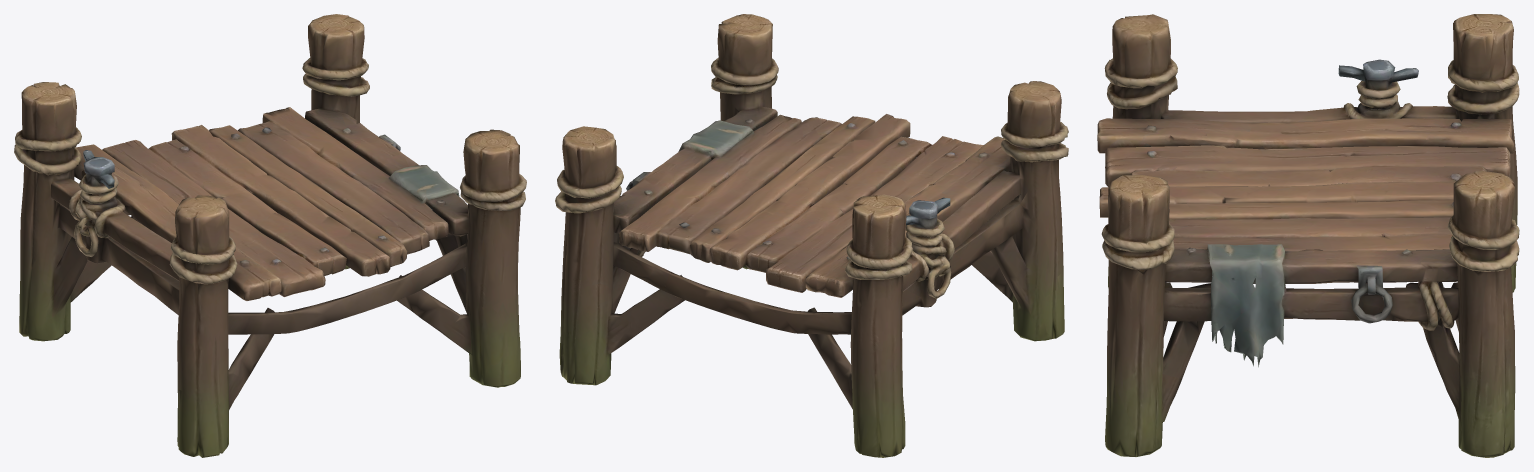
The model's file is muelle.glb.
The picture shows the model from 3 angles, left to right: view 1: azimuth 30°, elevation 25°; view 2: azimuth 150°, elevation 25°; view 3: azimuth 270°, elevation 25°; orthographic projection. The views are drawn at different scales.
Visible parts, largest first — view 1: tripo_node_efc65aa1-55aa-4ba5-8649-382ef9bbe9bc; view 2: tripo_node_efc65aa1-55aa-4ba5-8649-382ef9bbe9bc; view 3: tripo_node_efc65aa1-55aa-4ba5-8649-382ef9bbe9bc.
Part boxes in pixels (bbox=[...]): tripo_node_efc65aa1-55aa-4ba5-8649-382ef9bbe9bc: bbox=[14, 14, 526, 457]; tripo_node_efc65aa1-55aa-4ba5-8649-382ef9bbe9bc: bbox=[555, 14, 1068, 457]; tripo_node_efc65aa1-55aa-4ba5-8649-382ef9bbe9bc: bbox=[1097, 14, 1519, 457].
Size of the model in its own units: 1 by 0.6576 by 0.9461.
1 material, 1 textured.
